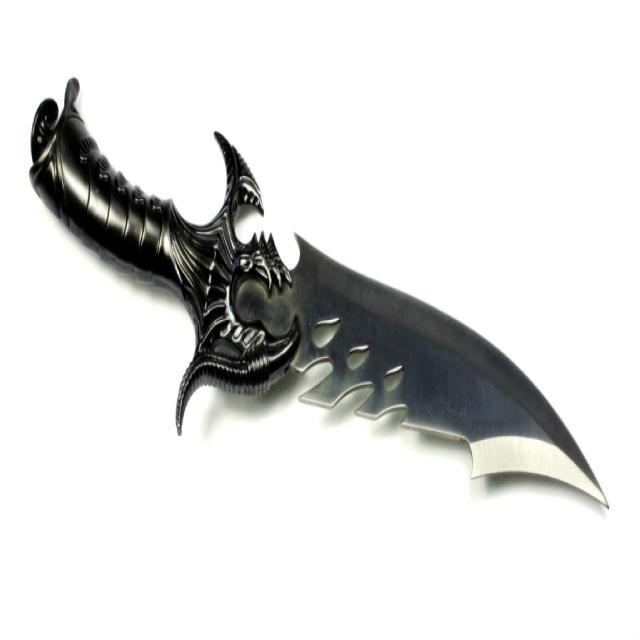Knife: (30, 79, 606, 504)
